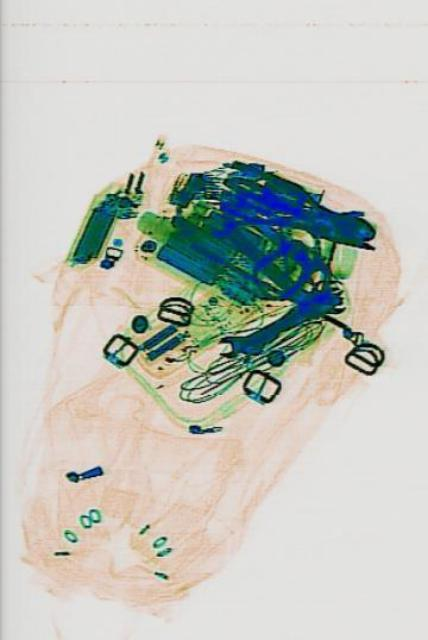Pliers: (215, 155, 376, 257)
Wrench: (212, 281, 330, 364)
